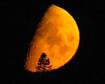moon: (22, 4, 80, 72)
